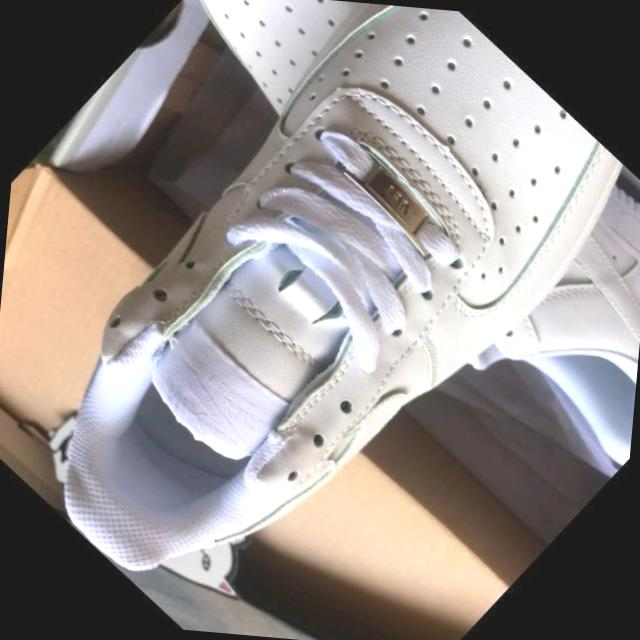nike_fake_airforce: (0, 0, 640, 640), (115, 0, 640, 471)
